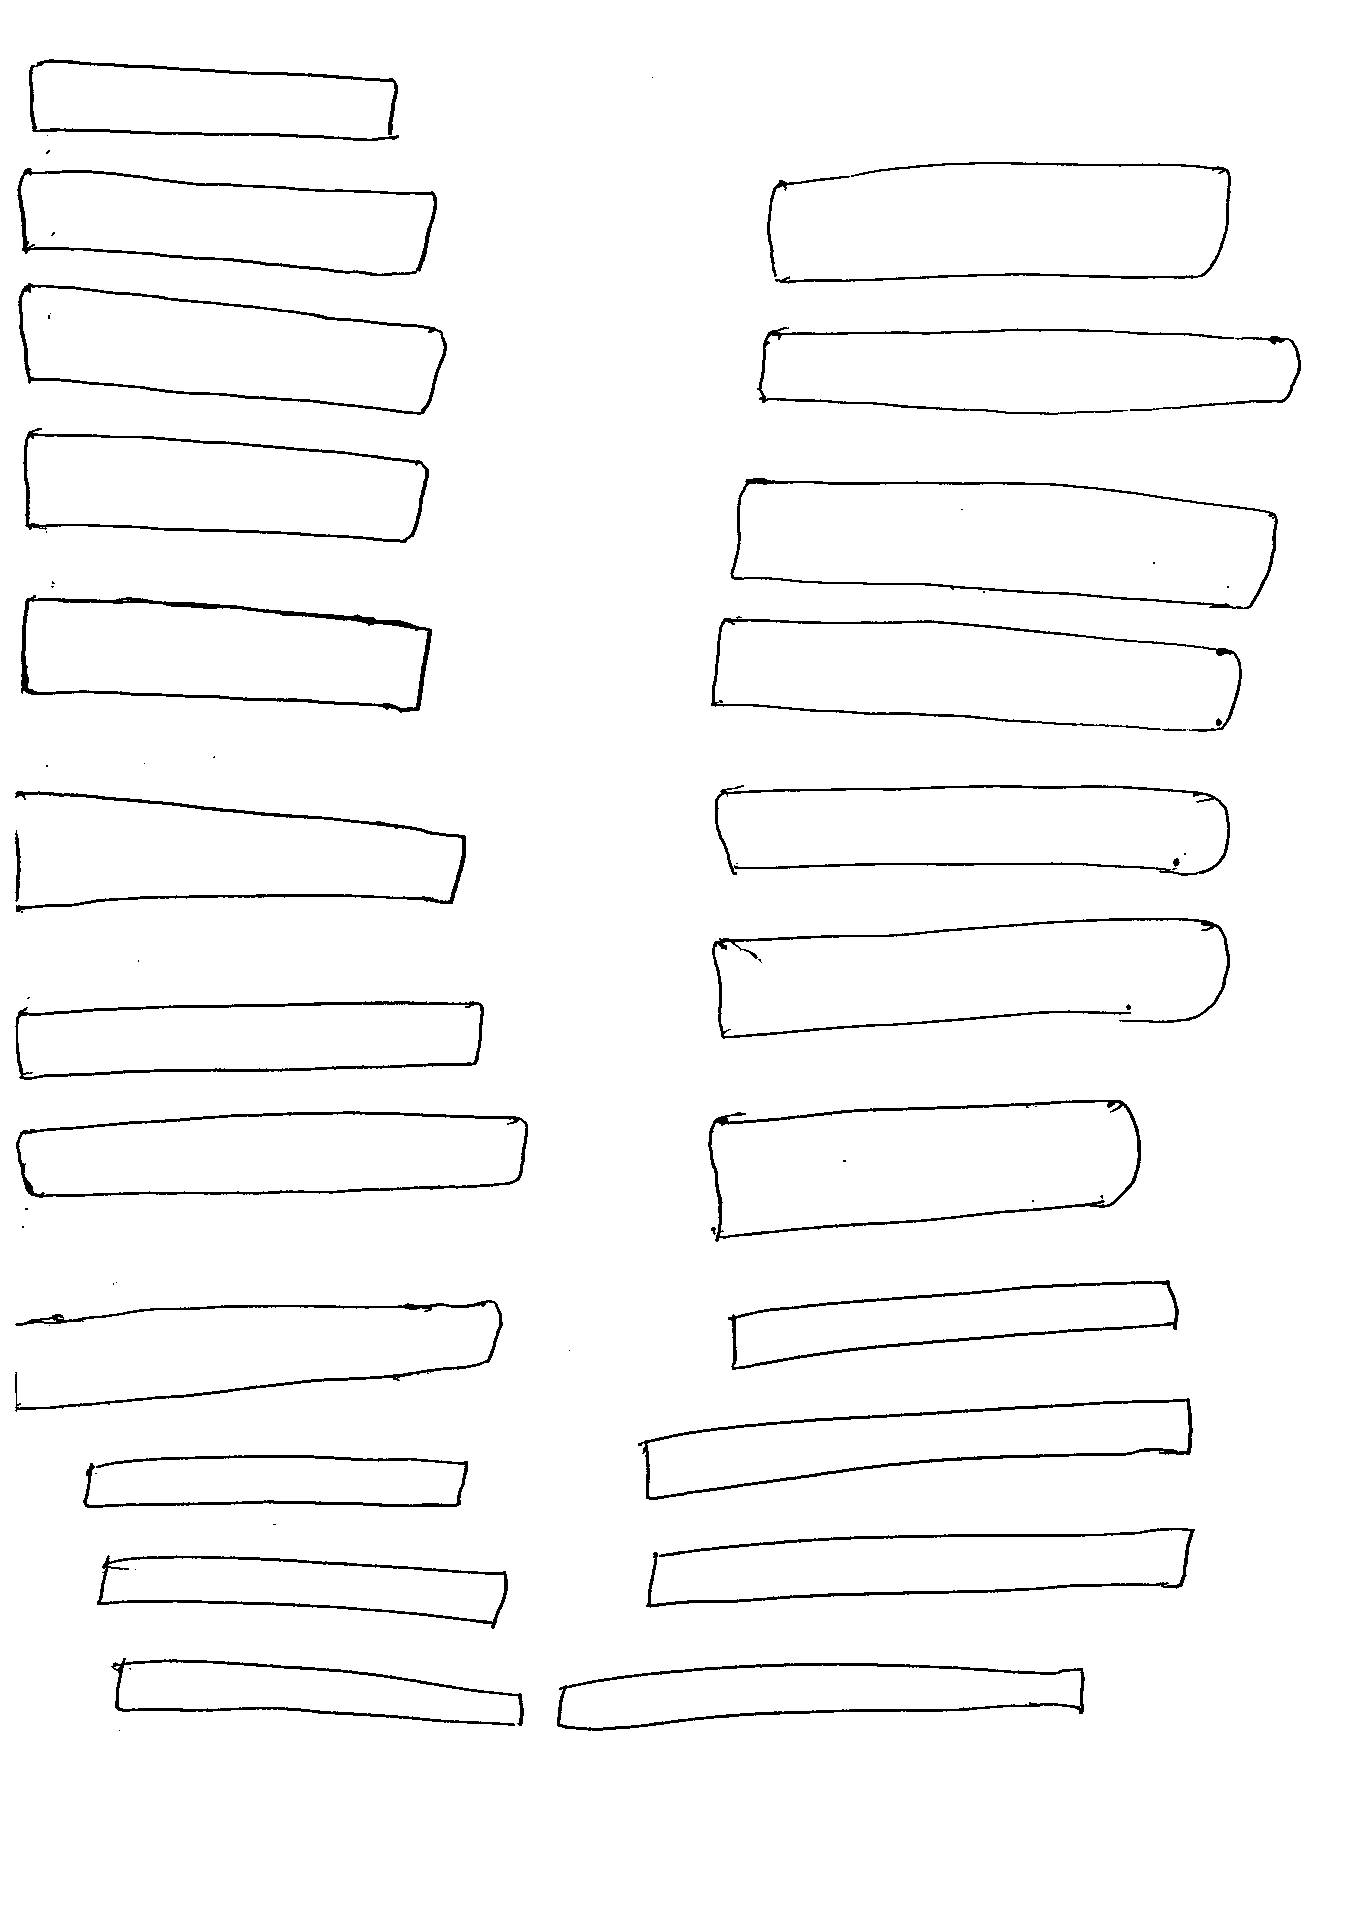Textbox: (732, 478, 1276, 611), (711, 911, 1231, 1042), (710, 614, 1243, 736), (764, 157, 1234, 287), (642, 1397, 1196, 1507), (16, 276, 446, 417), (757, 322, 1299, 418), (711, 782, 1237, 881), (16, 591, 432, 714), (16, 164, 439, 282), (21, 424, 427, 547), (642, 1524, 1195, 1609), (12, 1110, 526, 1199), (726, 1279, 1183, 1377), (12, 997, 483, 1082), (554, 1660, 1087, 1731), (27, 56, 401, 143), (92, 1552, 512, 1629), (111, 1657, 526, 1728), (78, 1452, 467, 1514)
